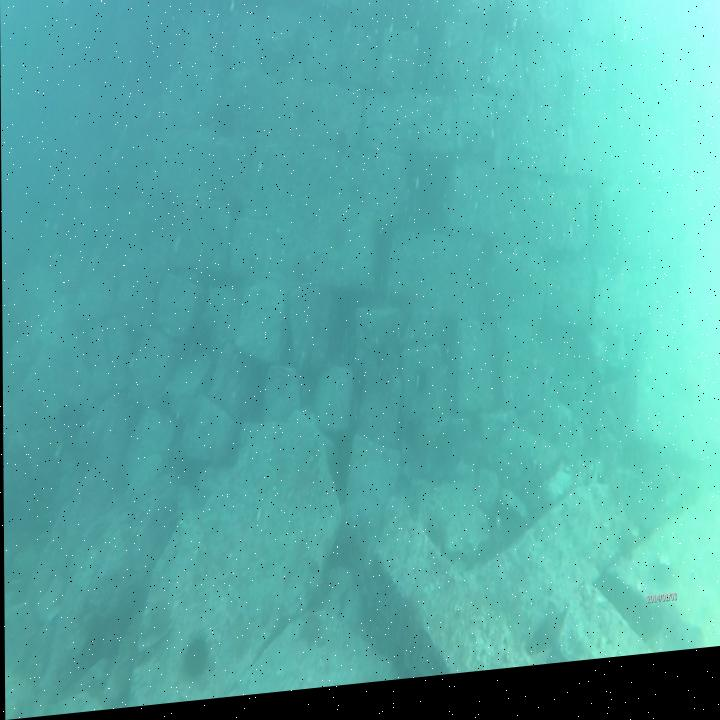echinus: (180, 636, 212, 691)
